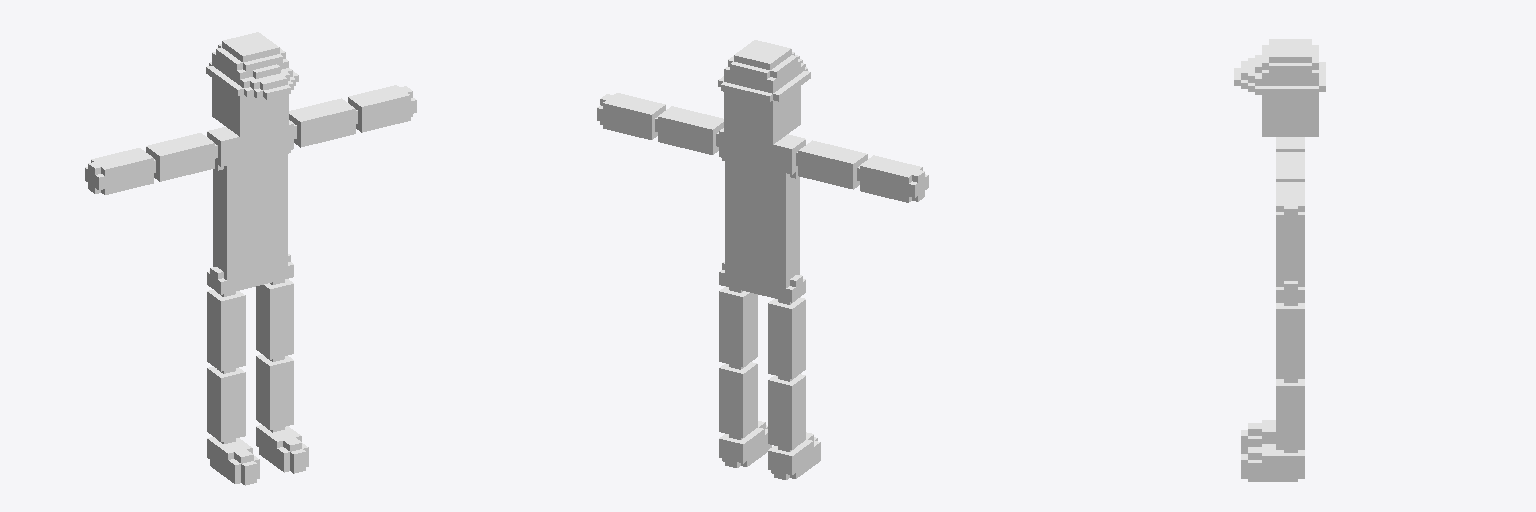
The model's file is ConstructionWorker.obj.
The picture shows the model from 3 angles: view 1: azimuth 30°, elevation 25°; view 2: azimuth 150°, elevation 25°; view 3: azimuth 270°, elevation 25°; orthographic projection.
Parts seen in each view (by area): view 1: ConstructionWorker; view 2: ConstructionWorker; view 3: ConstructionWorker.
Part boxes in pixels (left/top/right/bottom): ConstructionWorker: left=85, top=32, right=416, bottom=485; ConstructionWorker: left=597, top=40, right=928, bottom=479; ConstructionWorker: left=1234, top=39, right=1325, bottom=481.
Size of the model in its own units: 52 by 65 by 13.